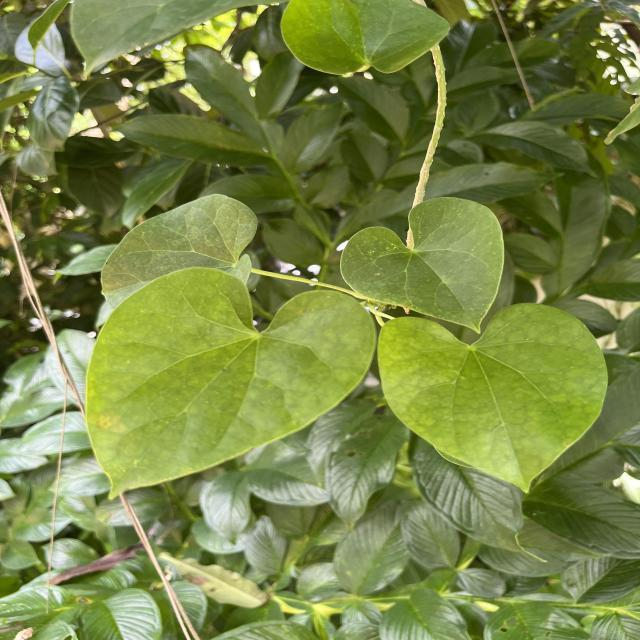Tinospora cordifolia: (82, 264, 379, 502), (377, 299, 612, 496), (337, 194, 508, 336)
